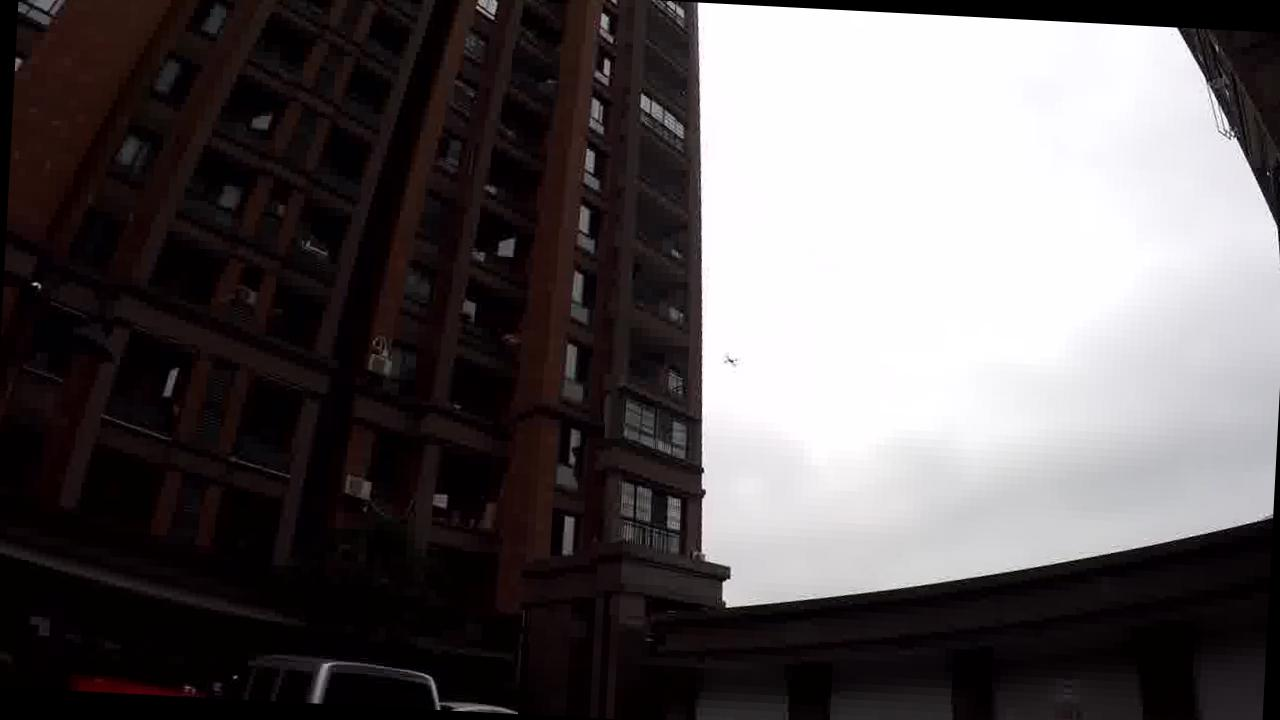drone: (718, 350, 741, 370)
